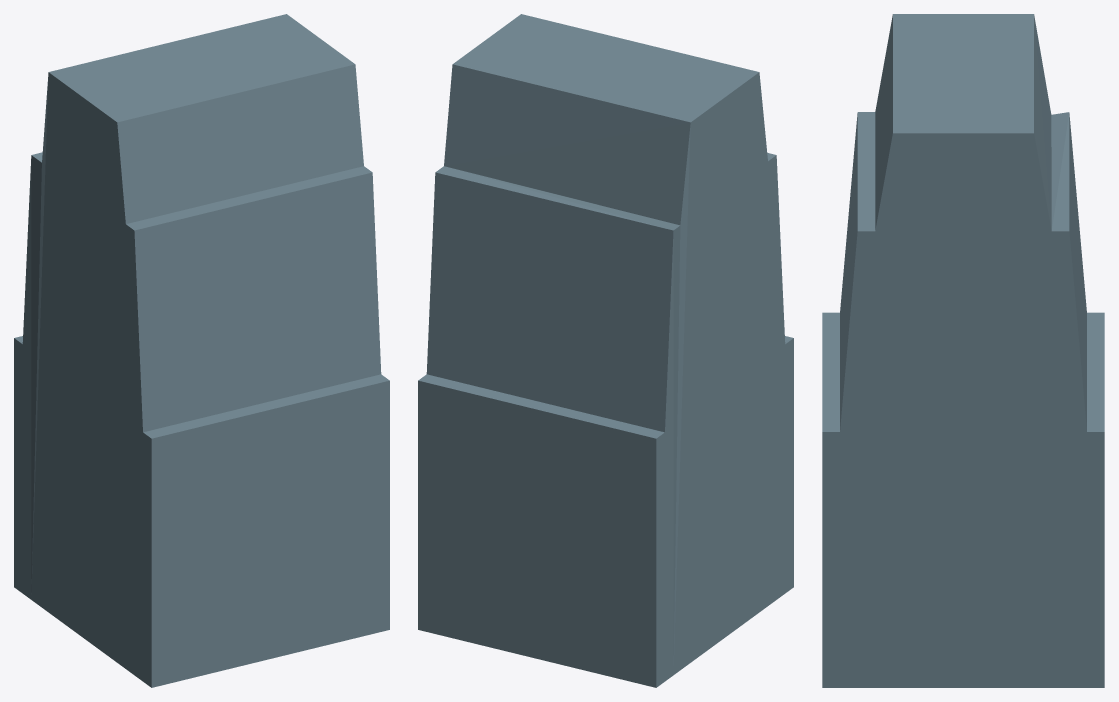
The picture shows the model from 3 angles, left to right: view 1: azimuth 30°, elevation 25°; view 2: azimuth 150°, elevation 25°; view 3: azimuth 270°, elevation 25°; orthographic projection. The views are drawn at different scales.
Parts seen in each view (by area): view 1: mesh_684660134; view 2: mesh_684660134; view 3: mesh_684660134.
Part boxes in pixels (<box>): mesh_684660134: <box>14,14,389,687</box>; mesh_684660134: <box>418,14,793,687</box>; mesh_684660134: <box>822,14,1104,687</box>.
Size of the model in its own units: 54.81 by 119 by 54.81.
